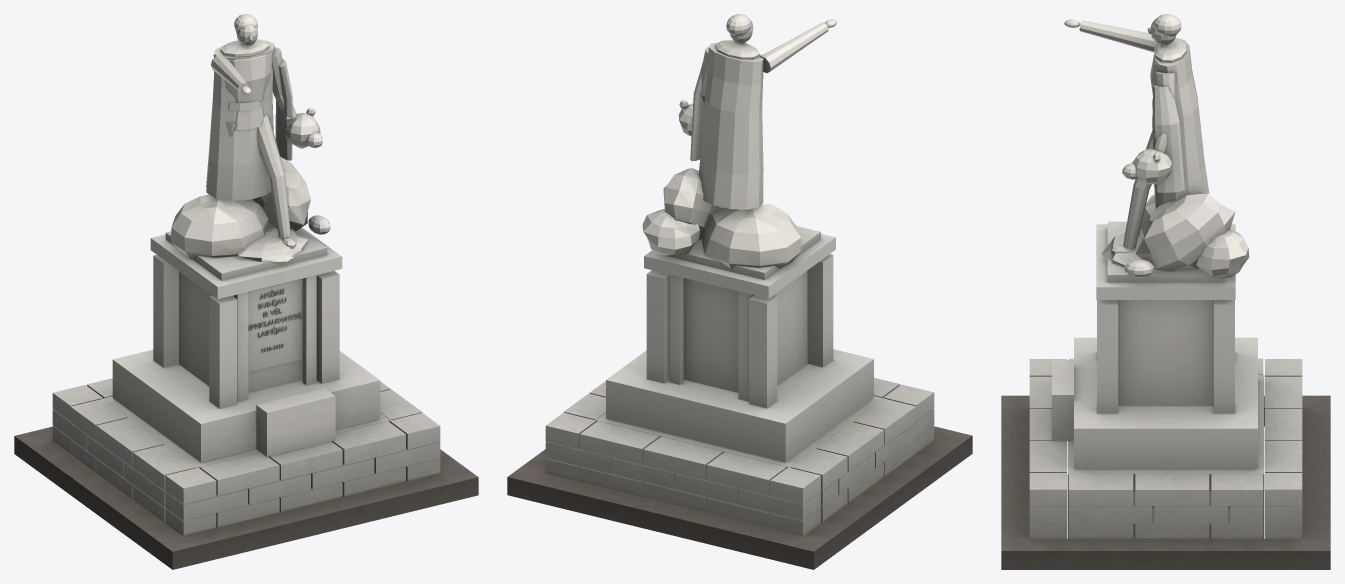
File: zemaitis.glb
3 views of the same model, side by side, from view 1: azimuth 30°, elevation 25°; view 2: azimuth 150°, elevation 25°; view 3: azimuth 270°, elevation 25° (orthographic). The views are drawn at different scales.
Visible parts, largest first — view 1: building; view 2: building; view 3: building.
Part boxes in pixels (<box>): building: <box>14,14,478,569</box>; building: <box>507,14,972,569</box>; building: <box>1001,14,1330,569</box>.
Size of the model in its own units: 5.8 by 8.51 by 5.2.
Materials: 1 (1 with a texture image).
